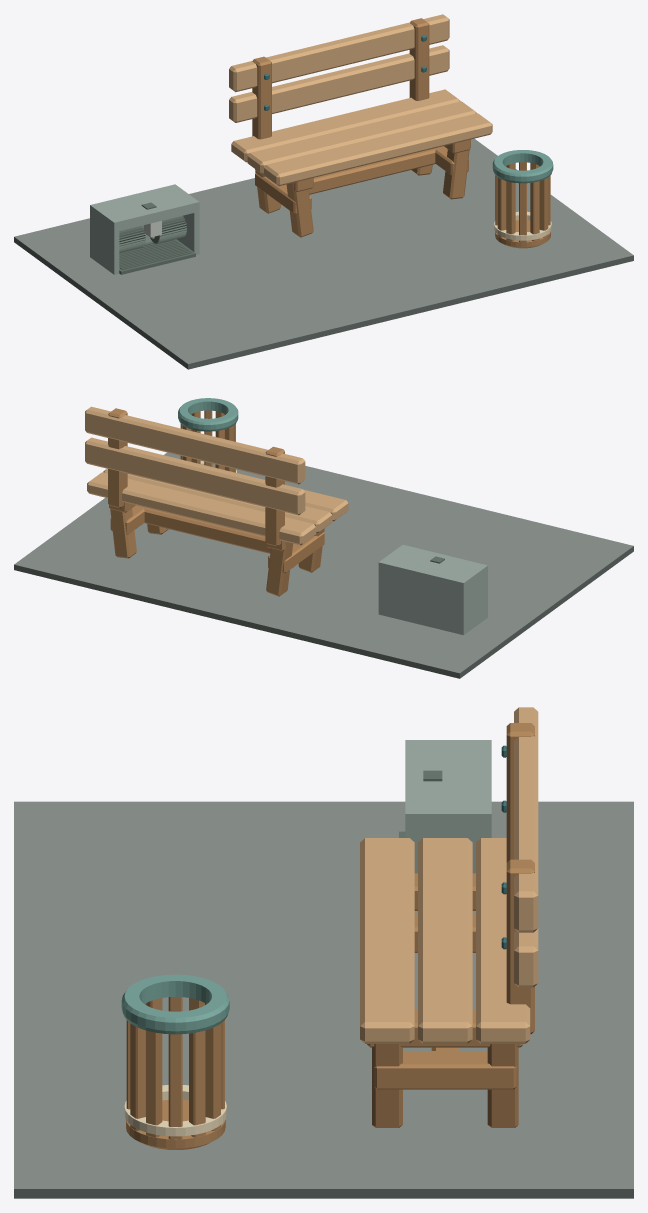
3 views of the same model, one above another, from view 1: azimuth 30°, elevation 25°; view 2: azimuth 150°, elevation 25°; view 3: azimuth 270°, elevation 25° (orthographic). The views are drawn at different scales.
Visible parts, largest first — view 1: SCENE_ONLY__DisplayFloor, bench__harbor-bench-01, umbrella__entryway-umbrella-bin-01, polisher__WholeContinuousOpenFrontFloorHousing, polisher__WholeIntegralRibbedFootMat, polisher__WholeLongitudinalFlutedBrushRoll_1, polisher__WholeLongitudinalFlutedBrushRoll_-1; view 2: SCENE_ONLY__DisplayFloor, bench__harbor-bench-01, polisher__WholeContinuousOpenFrontFloorHousing, umbrella__entryway-umbrella-bin-01; view 3: SCENE_ONLY__DisplayFloor, bench__harbor-bench-01, umbrella__entryway-umbrella-bin-01, polisher__WholeContinuousOpenFrontFloorHousing.
Boxes of the visible parts, x1,y1,x2,y2 form: SCENE_ONLY__DisplayFloor: (14, 138, 633, 369); bench__harbor-bench-01: (229, 14, 492, 237); umbrella__entryway-umbrella-bin-01: (492, 150, 553, 248); polisher__WholeContinuousOpenFrontFloorHousing: (90, 184, 199, 274); polisher__WholeIntegralRibbedFootMat: (119, 239, 195, 274); polisher__WholeLongitudinalFlutedBrushRoll_1: (150, 216, 186, 243); polisher__WholeLongitudinalFlutedBrushRoll_-1: (119, 226, 145, 252); SCENE_ONLY__DisplayFloor: (14, 452, 633, 678); bench__harbor-bench-01: (85, 406, 348, 596); polisher__WholeContinuousOpenFrontFloorHousing: (378, 544, 487, 635); umbrella__entryway-umbrella-bin-01: (178, 398, 238, 472); SCENE_ONLY__DisplayFloor: (14, 801, 633, 1198); bench__harbor-bench-01: (360, 707, 538, 1127); umbrella__entryway-umbrella-bin-01: (121, 974, 229, 1149); polisher__WholeContinuousOpenFrontFloorHousing: (405, 740, 491, 873).
Size of the model in its own units: 3.4 by 1.11 by 2.3.
